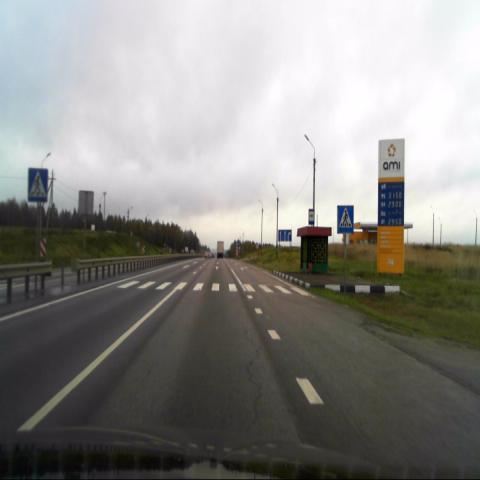5_15_1: (278, 229, 292, 241)
5_16: (308, 208, 314, 224)
5_19_1: (28, 168, 48, 201), (337, 204, 354, 232)
